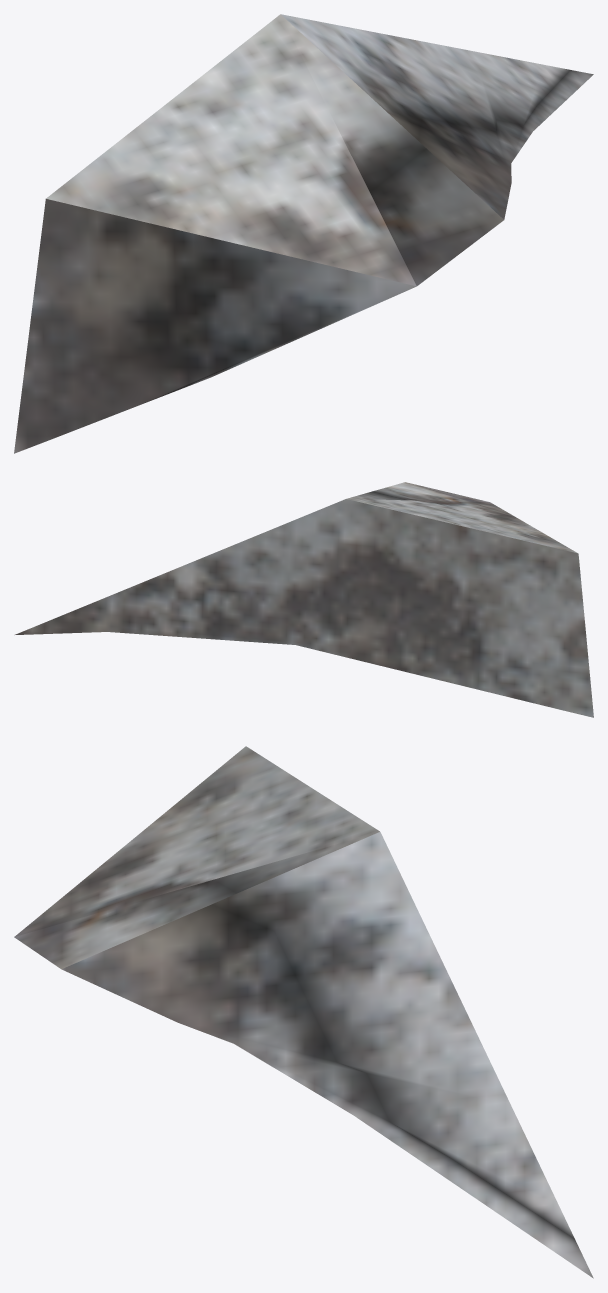
The model's file is Asteroid_Large_001_02_001_03_018.fbx.
3 renders of one model, top to bottom at view 1: azimuth 30°, elevation 25°; view 2: azimuth 150°, elevation 25°; view 3: azimuth 270°, elevation 25°, orthographic. The views are drawn at different scales.
Parts seen in each view (by area): view 1: Asteroid_Large_001_02_001_03_018; view 2: Asteroid_Large_001_02_001_03_018; view 3: Asteroid_Large_001_02_001_03_018.
Part boxes in pixels (box(x1,y1,x2,y2)): Asteroid_Large_001_02_001_03_018: box(14, 14, 593, 453); Asteroid_Large_001_02_001_03_018: box(15, 482, 593, 717); Asteroid_Large_001_02_001_03_018: box(14, 746, 593, 1278).
Bounding box in the file's own units: 4.37 × 1.74 × 2.92.
